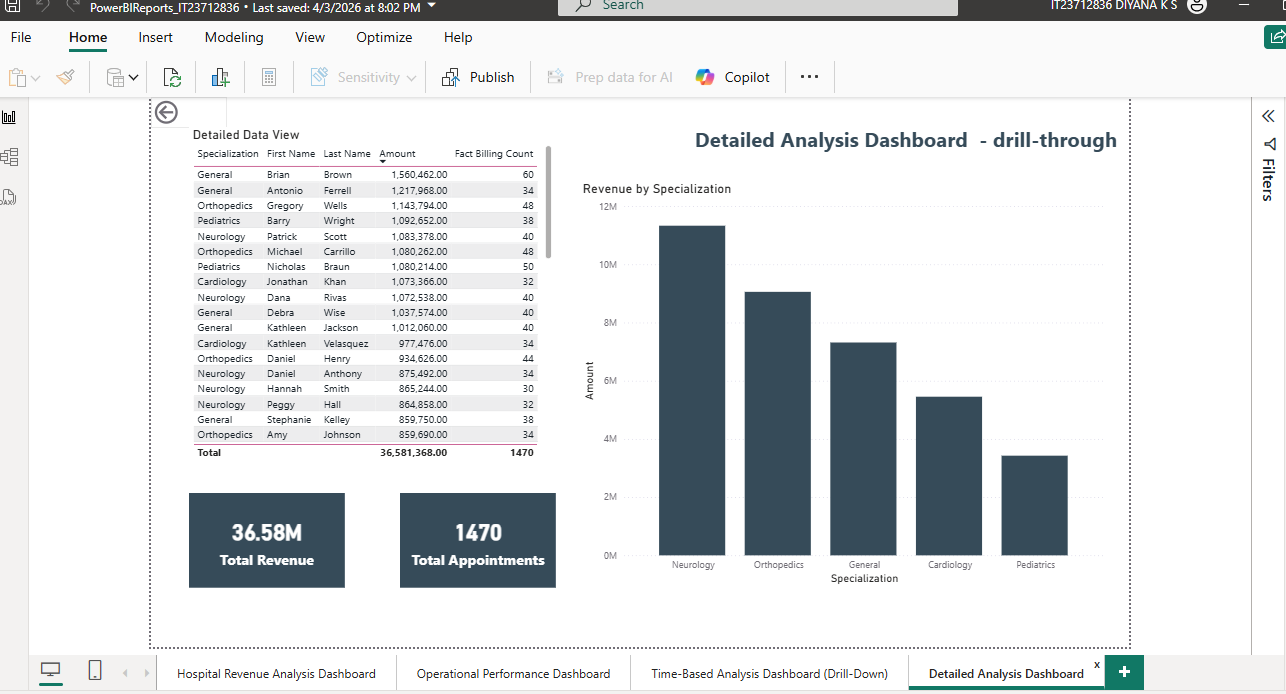

What the dashboard file says about the page in this screenshot:
{"tool":"powerbi","page":{"name":"Detailed Analysis Dashboard","canvas":[1280,720],"ordinal":3},"visuals":[{"type":"actionButton","box":[0,0,100,40],"z":0},{"type":"tableEx","title":"Detailed Data View","fields":{"Values":["Dim Doctor.Specialization","Dim Doctor.First Name","Dim Doctor.Last Name","Fact Billing.Amount","Fact Billing.Fact Billing Count"]},"box":[49.5,39.9,480.4,440.5],"z":1000},{"type":"clusteredColumnChart","title":"Revenue by Specialization","fields":{"Category":["Dim Doctor.Specialization"],"Y":["Fact Billing.Amount"]},"box":[560.2,110.1,692.7,533.1],"z":2000},{"type":"card","fields":{"Values":["Fact Billing.Amount"]},"box":[49.5,518.7,204.3,124.5],"z":3000},{"type":"card","fields":{"Values":["Fact Billing.Fact Billing Count"]},"box":[325.6,518.7,204.3,124.5],"z":4000},{"type":"textbox","box":[707,31.9,573,60.6],"z":5000}]}

Visuals, with their boxes on the page's 1280x720 design canvas (x1, y1, x2, y2). These are canvas units, not pixel positions in the 1286x694 screenshot, which may show the page scaled, cropped or inside an application window:
actionButton: [0,0,100,40]
"Detailed Data View" tableEx: [50,40,530,480]
"Revenue by Specialization" clusteredColumnChart: [560,110,1253,643]
card - Fact Billing.Amount: [50,519,254,643]
card - Fact Billing.Fact Billing Count: [326,519,530,643]
textbox: [707,32,1280,92]
